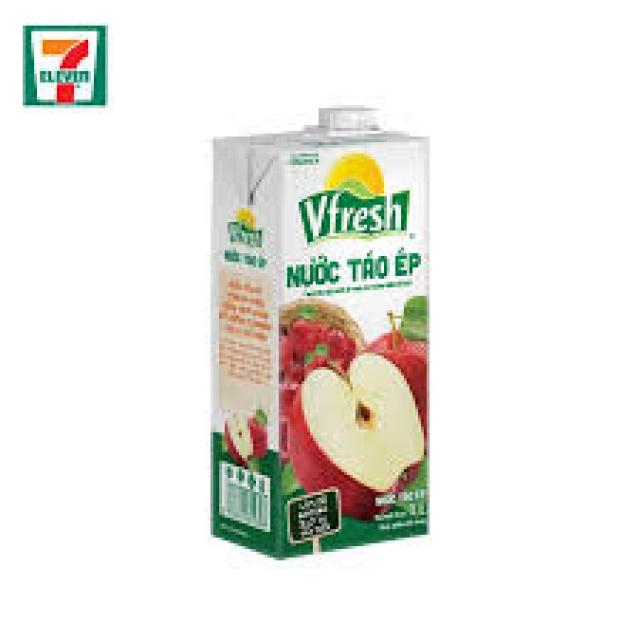non_white_jug: (196, 108, 461, 569)
